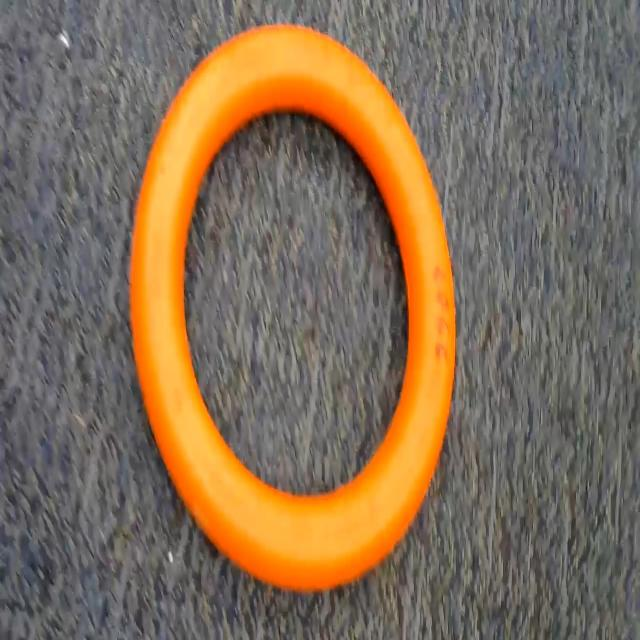note: (126, 23, 466, 609)
